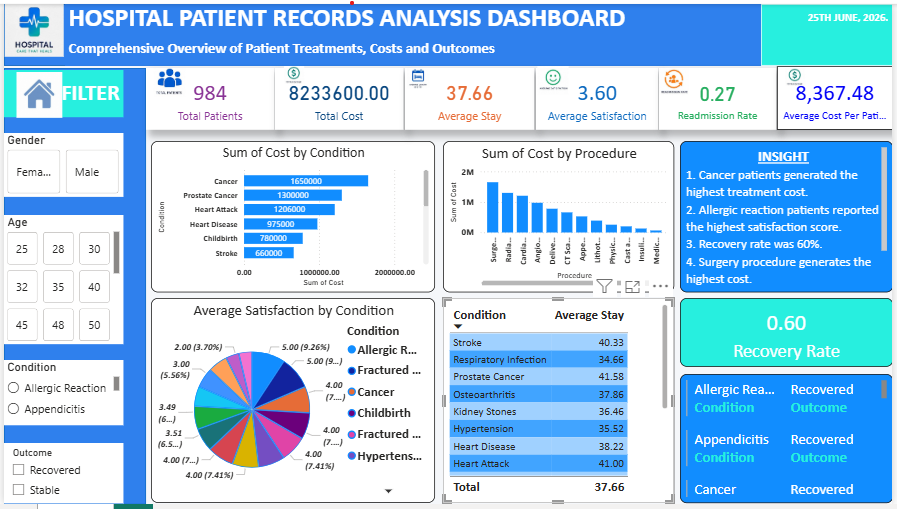

This screenshot's page, from the dashboard's own definition file:
{"tool":"powerbi","page":{"name":"Page 1","canvas":[1280,720],"ordinal":0},"visuals":[{"type":"shape","box":[0,0,1280,89],"z":0},{"type":"shape","box":[0,92.4,204.5,628.5],"z":1000},{"type":"pieChart","title":"Cost by Condition","fields":{"Category":["hospital data analysis.Condition"],"Y":["Sum(hospital data analysis.Cost)"]},"box":[212.8,197.9,565.8,301.9],"z":2000},{"type":"card","fields":{"Values":["hospital data analysis.Total Patients"]},"box":[334.8,92.4,184.7,89.1],"z":3000,"group":"g3"},{"type":"advancedSlicerVisual","fields":{"Values":["hospital data analysis.Age"]},"box":[16.5,516.3,171.5,95.7],"z":3000},{"type":"areaChart","title":" Cost by Procedure","fields":{"Category":["hospital data analysis.Procedure"],"Y":["Sum(hospital data analysis.Cost)"]},"box":[790.1,194.6,489.9,524.5],"z":4000},{"type":"card","fields":{"Values":["hospital data analysis.Total Cost"]},"box":[654.8,95.7,185,89.1],"z":5000,"group":"g2"},{"type":"advancedSlicerVisual","fields":{"Values":["hospital data analysis.Gender"]},"box":[16.5,267.2,171.5,92.4],"z":5000},{"type":"card","fields":{"Values":["hospital data analysis.Recovery Rate"]},"box":[212.8,516.3,565.8,202.9],"z":6000},{"type":"textbox","box":[102.3,0,1052.4,89.1],"z":7000},{"type":"card","fields":{"Values":["hospital data analysis.Average Stay"]},"box":[969.9,95.7,186.4,89.1],"z":7000,"group":"g1"},{"type":"textbox","box":[0,92.4,204.5,70.9],"z":8000},{"type":"textbox","box":[1090.3,0,189.7,89.1],"z":9000},{"type":"image","box":[0,0,102.3,89.1],"z":10000},{"type":"image","box":[0,96.5,102.2,64.8],"z":11000},{"type":"group","id":"g1","title":"Group 1","box":[969.9,92.4,186.4,92.4],"z":12000},{"type":"group","id":"g2","title":"Group 2","box":[654.8,92.4,184.7,92.4],"z":13000},{"type":"group","id":"g3","title":"Group 3","box":[334.8,92.4,184.7,89.1],"z":14000},{"type":"image","box":[341.4,92.4,54.4,41.2],"z":23000,"group":"g3"},{"type":"image","box":[654.8,92.4,54.4,24.7],"z":24000,"group":"g2"},{"type":"image","box":[973.2,92.4,33,34.6],"z":25000,"group":"g1"}]}

Visuals, with their boxes in screenshot pixels (x1, y1, x2, y2), scaled from the page's 1280x720 canvas onto the 897x509 screenshot:
shape: [0, 0, 896, 63]
shape: [0, 65, 143, 508]
"Cost by Condition" pieChart: [149, 140, 546, 353]
card - hospital data analysis.Total Patients: [235, 65, 364, 128]
advancedSlicerVisual - hospital data analysis.Age: [12, 365, 132, 433]
" Cost by Procedure" areaChart: [554, 138, 896, 508]
card - hospital data analysis.Total Cost: [459, 68, 589, 131]
advancedSlicerVisual - hospital data analysis.Gender: [12, 189, 132, 254]
card - hospital data analysis.Recovery Rate: [149, 365, 546, 508]
textbox: [72, 0, 809, 63]
card - hospital data analysis.Average Stay: [680, 68, 810, 131]
textbox: [0, 65, 143, 115]
textbox: [764, 0, 896, 63]
image: [0, 0, 72, 63]
image: [0, 68, 72, 114]
"Group 1" group: [680, 65, 810, 131]
"Group 2" group: [459, 65, 588, 131]
"Group 3" group: [235, 65, 364, 128]
image: [239, 65, 277, 94]
image: [459, 65, 497, 83]
image: [682, 65, 705, 90]
